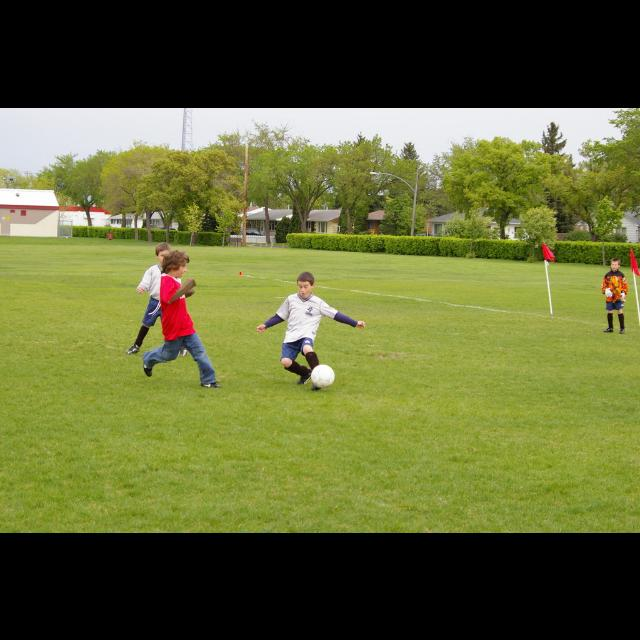Football: (308, 362, 334, 388)
